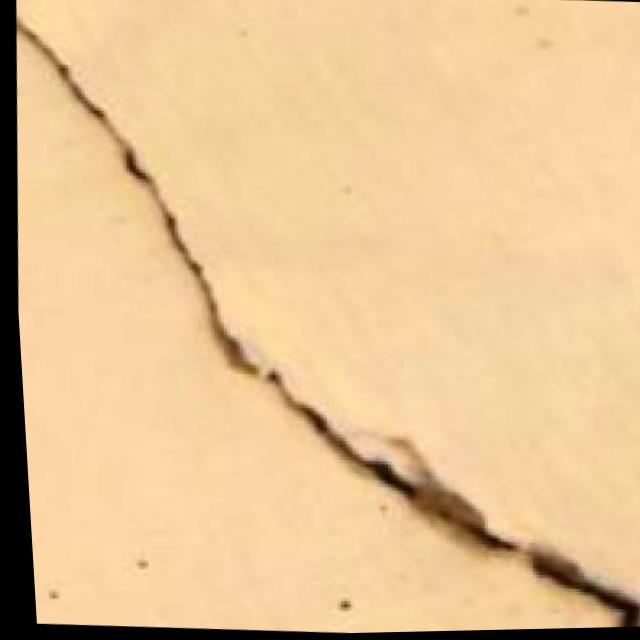Crack: (1, 0, 640, 640)
